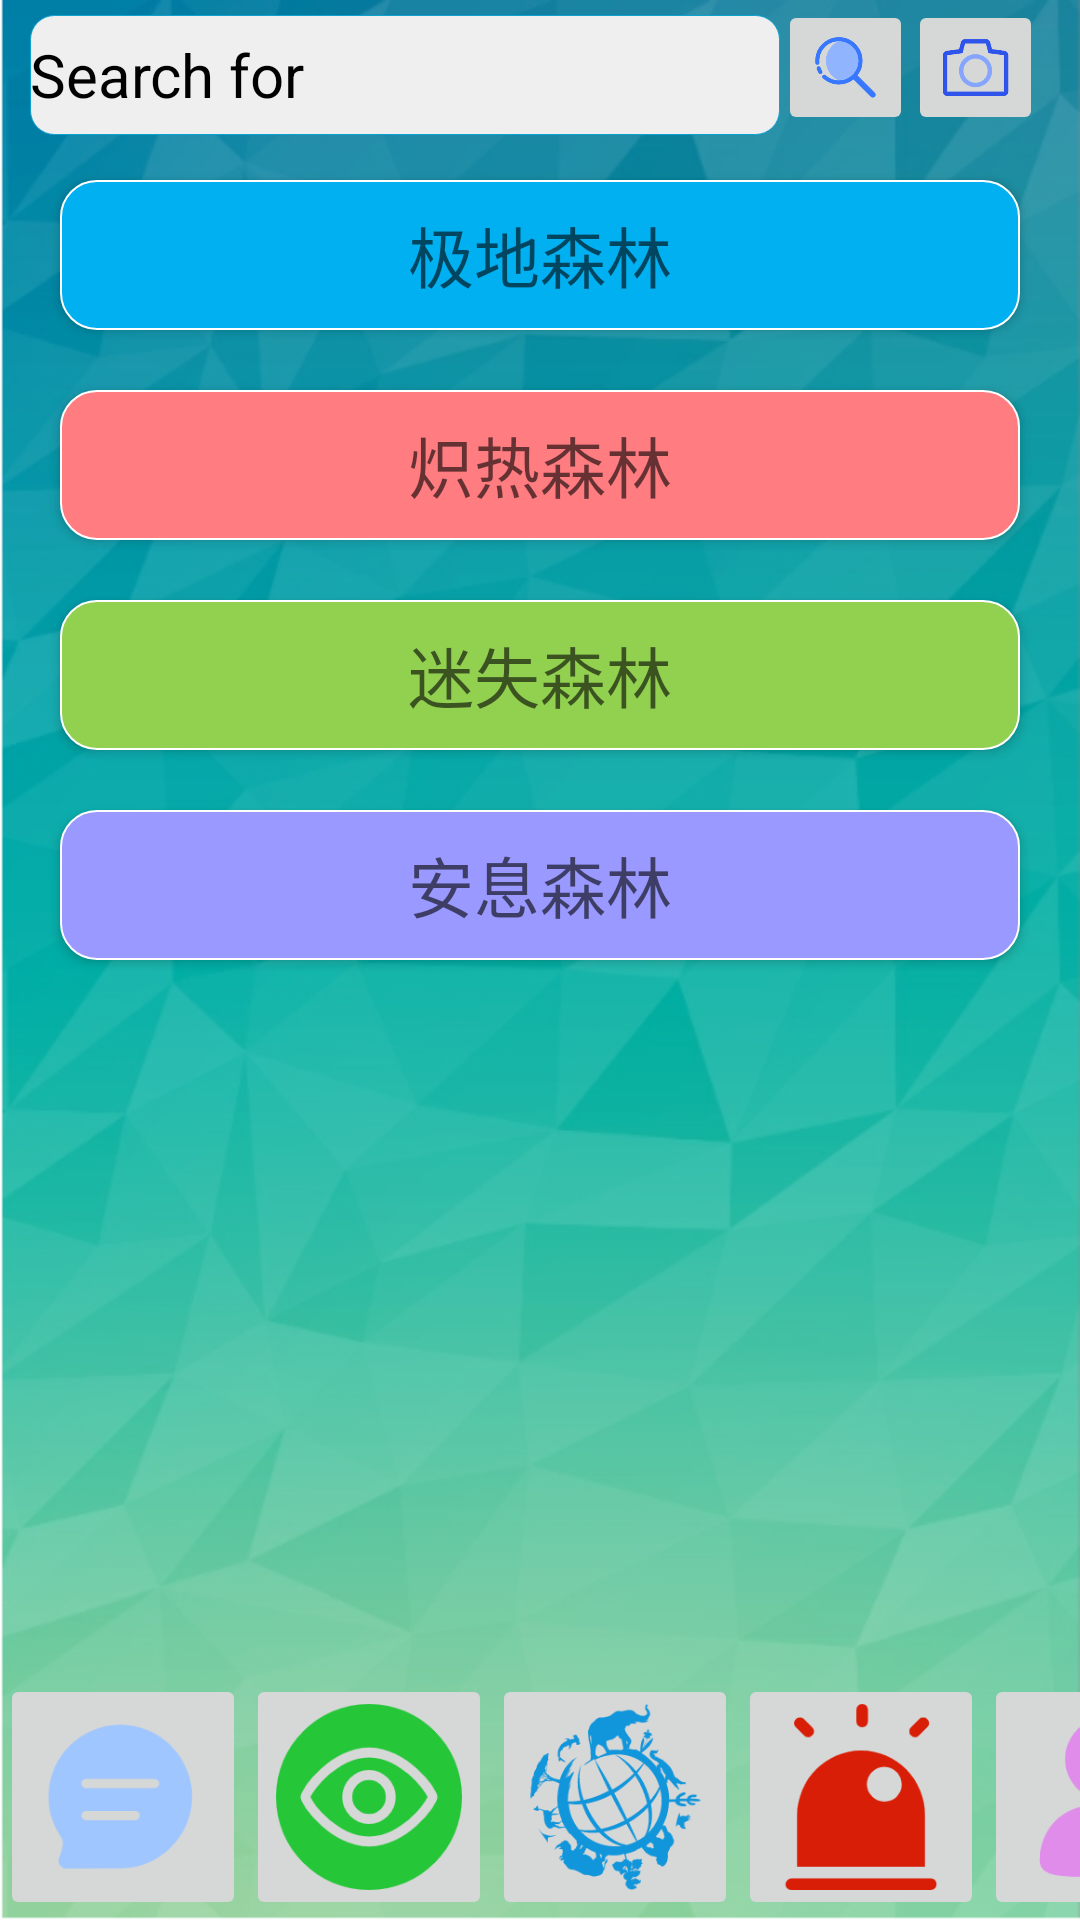

Named icons in this screenshot (1080px x 1920px) and their bounding boxes, [left=x1, top=y1, right=x2, bottom=y2]:
camera: [left=920, top=18, right=1038, bottom=117]
module animal list: [left=504, top=1692, right=726, bottom=1902]
module latest message: [left=0, top=1674, right=246, bottom=1920]
module report: [left=750, top=1692, right=972, bottom=1902]
